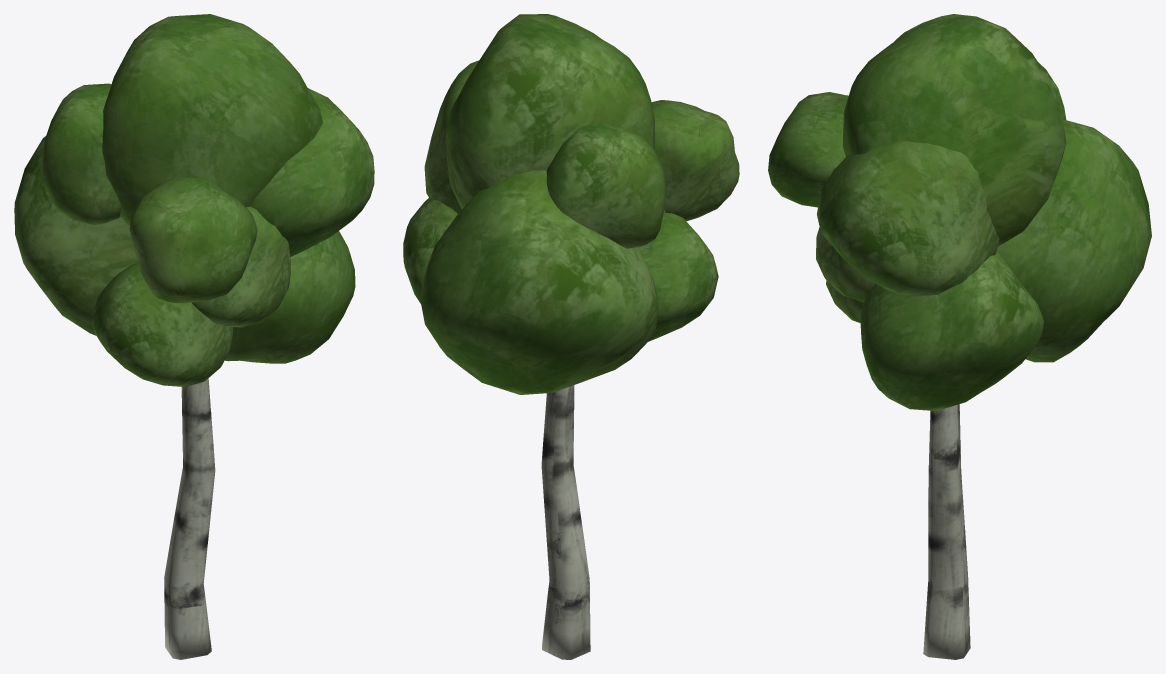
File: birch.glb
3 views of the same model, side by side, from view 1: azimuth 30°, elevation 25°; view 2: azimuth 150°, elevation 25°; view 3: azimuth 270°, elevation 25° (orthographic). The views are drawn at different scales.
Visible parts, largest first — view 1: Icosphere.078; view 2: Icosphere.078; view 3: Icosphere.078.
Part boxes in pixels (bbox=[...]): Icosphere.078: bbox=[14, 14, 374, 659]; Icosphere.078: bbox=[403, 14, 739, 659]; Icosphere.078: bbox=[768, 14, 1151, 659].
Size of the model in its own units: 2.44 by 5.27 by 2.9.
1 material, 1 textured.
